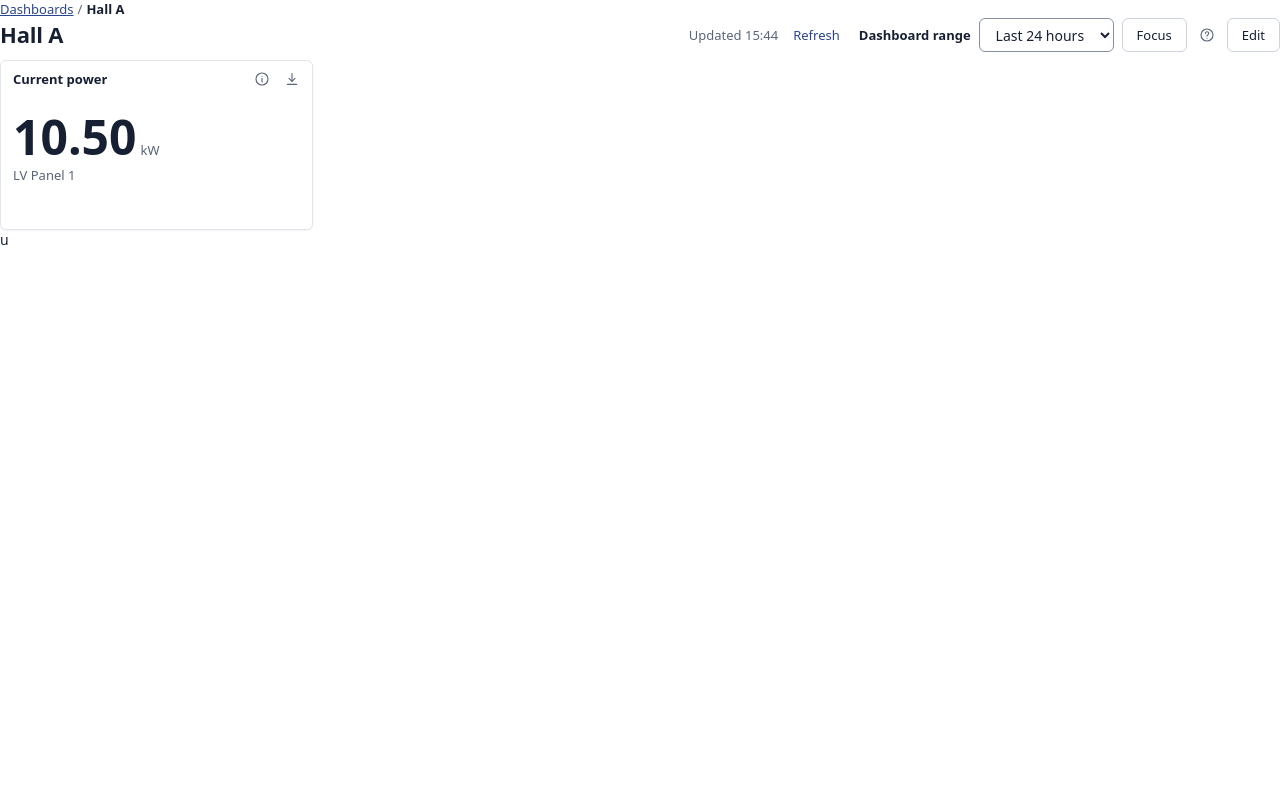
Scenario: editing › adds a widget, saves the exact body, and returns to the view with the server's dashboard
Click the button "Edit": point(1253, 35) [1227, 18, 1279, 52]
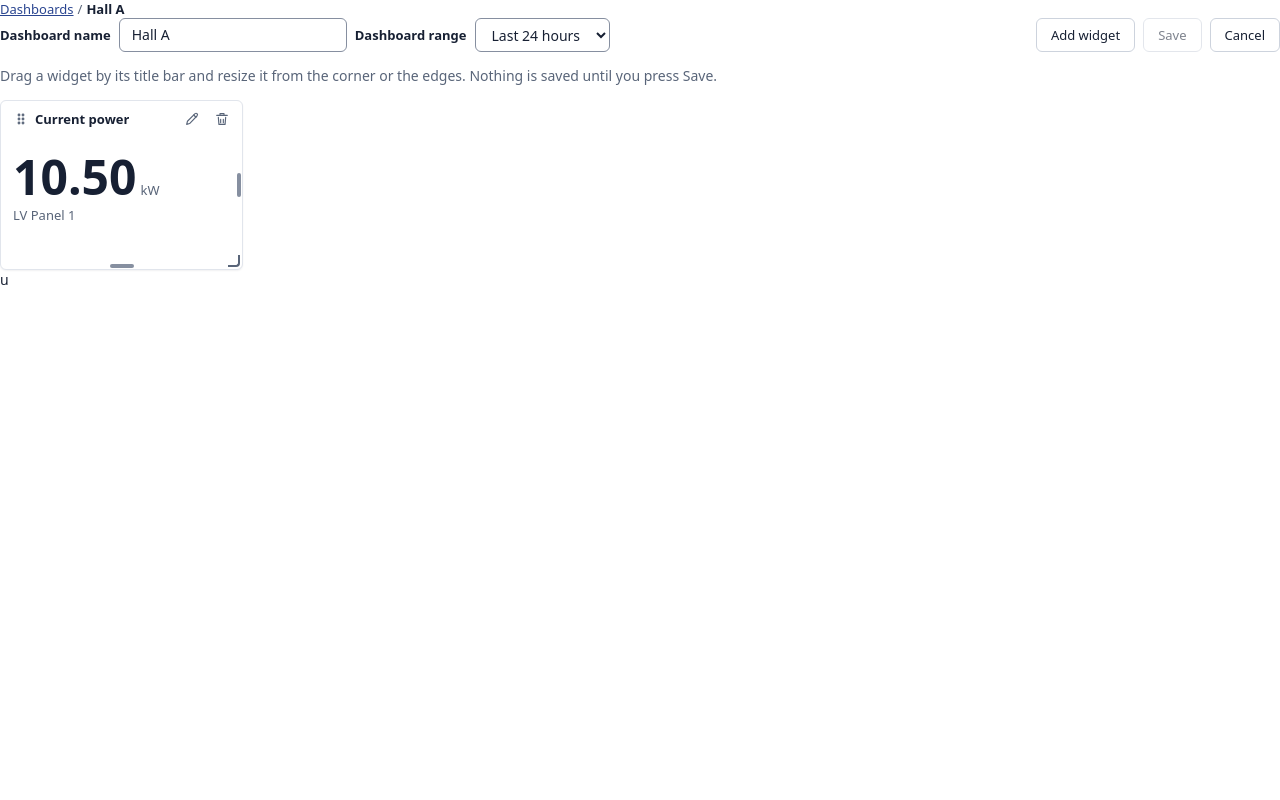
expect the field labelled "Dashboard name" is shown: met, box [119, 18, 347, 52]
expect the button "Add widget" is enabled: met
Click the button "Add widget": point(1086, 35) [1036, 18, 1135, 52]
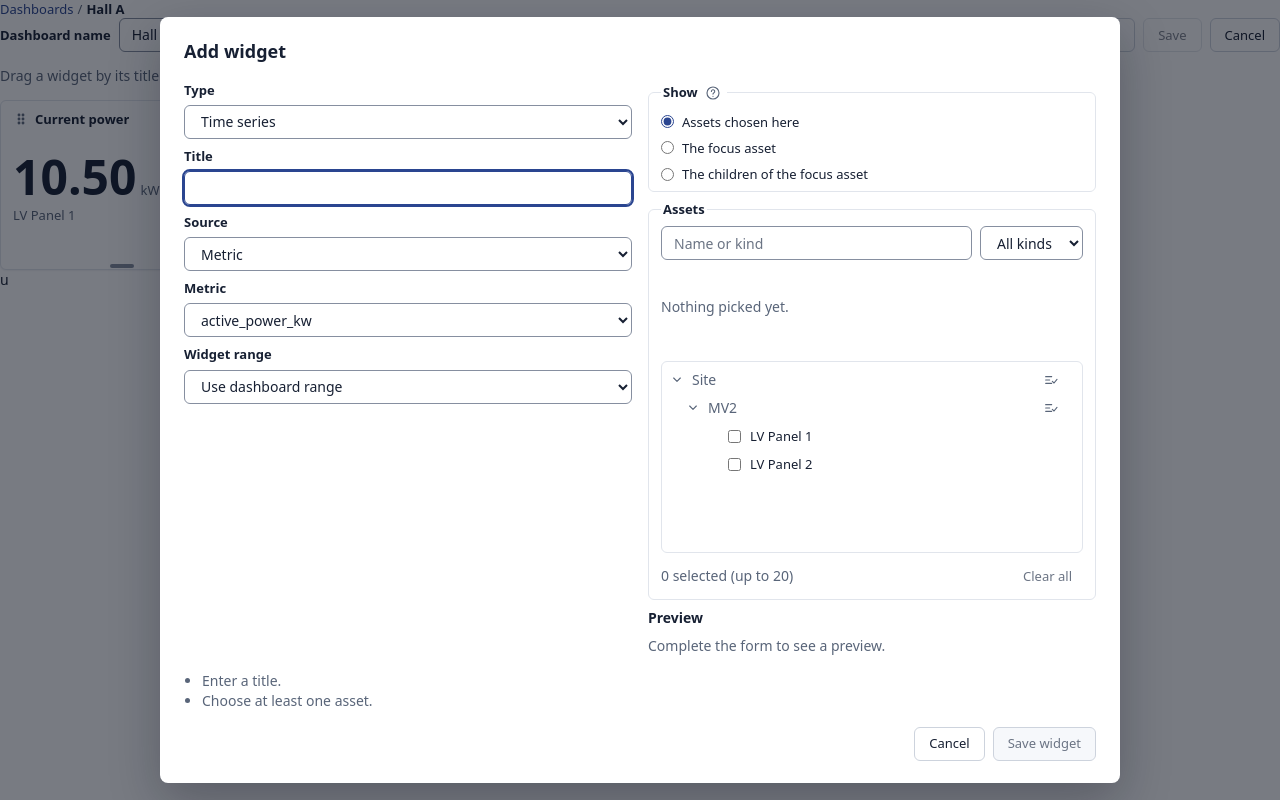
In the field labelled "Title": point(408, 188) [184, 171, 632, 205], type "Hall power"
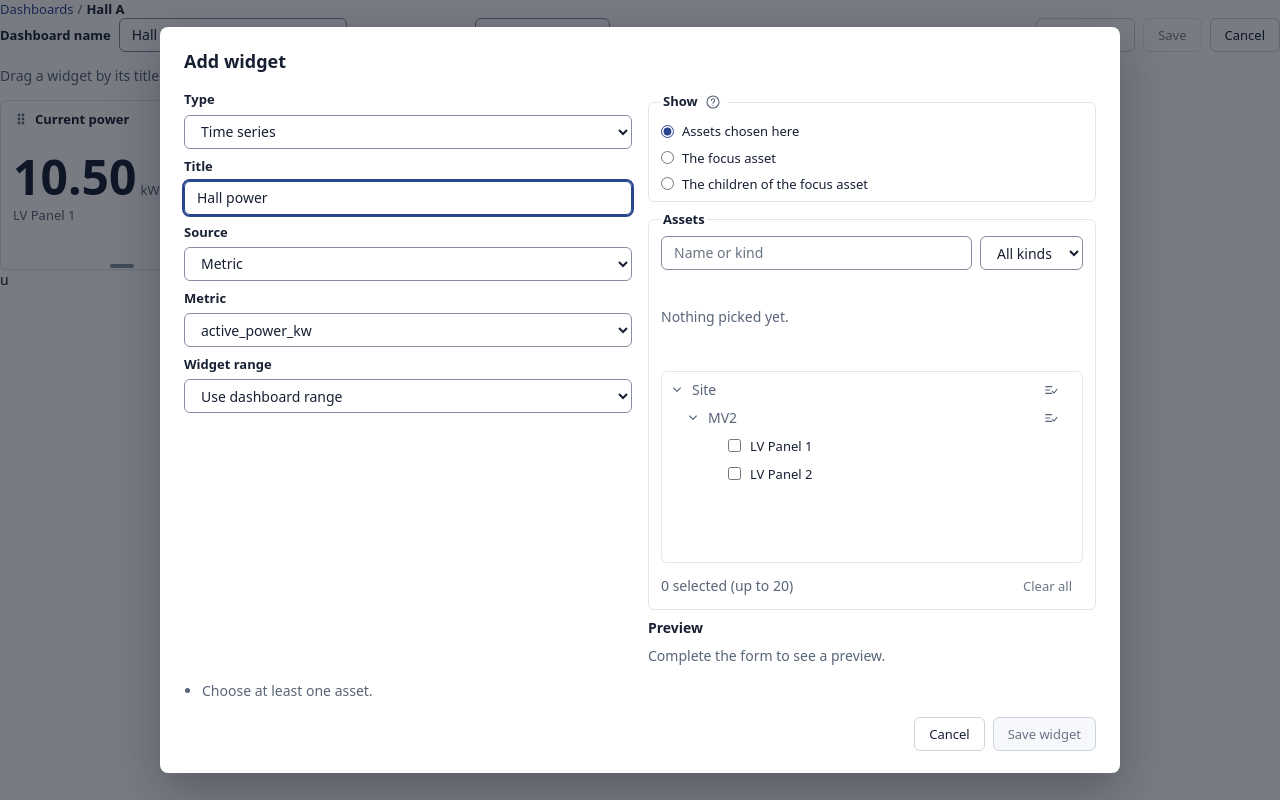
Click the checkbox labelled "LV Panel 1": point(734, 446) [728, 440, 741, 452]
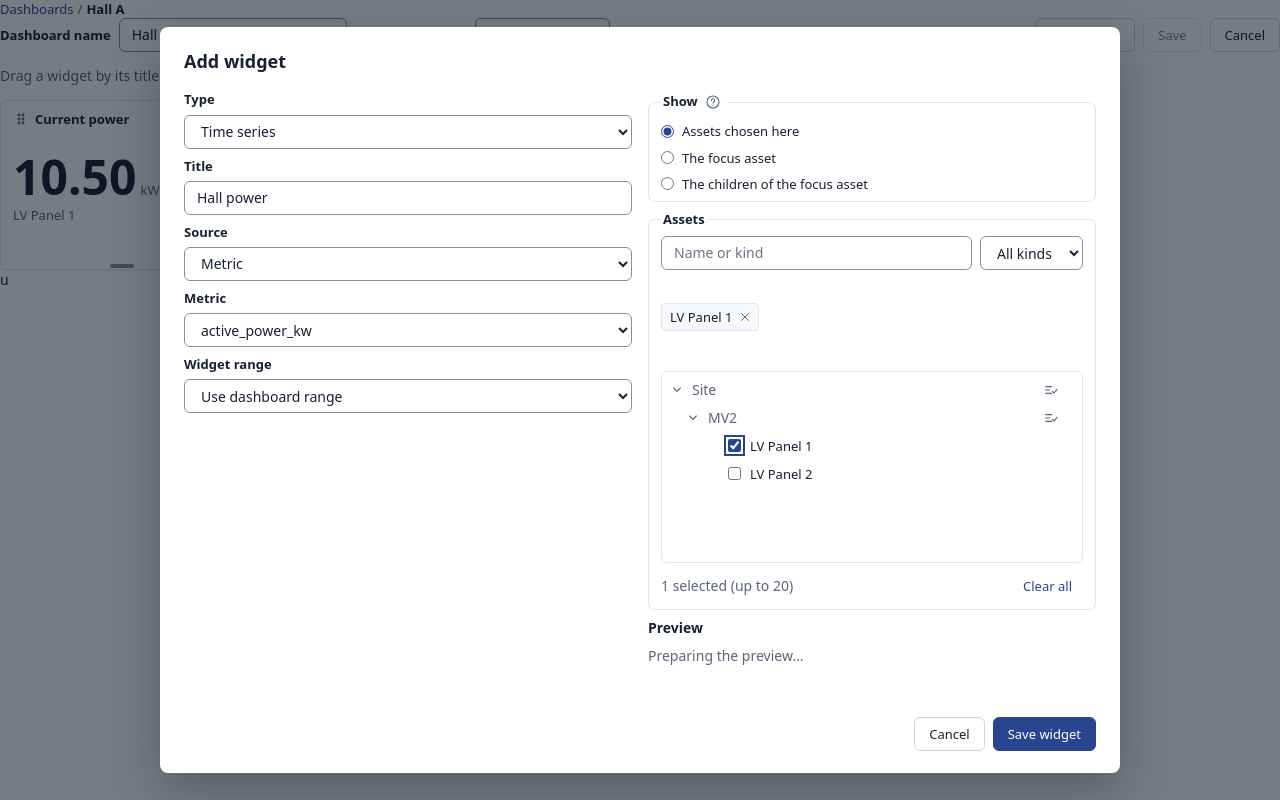
Click the button "Save widget": point(1044, 734) [993, 717, 1096, 751]
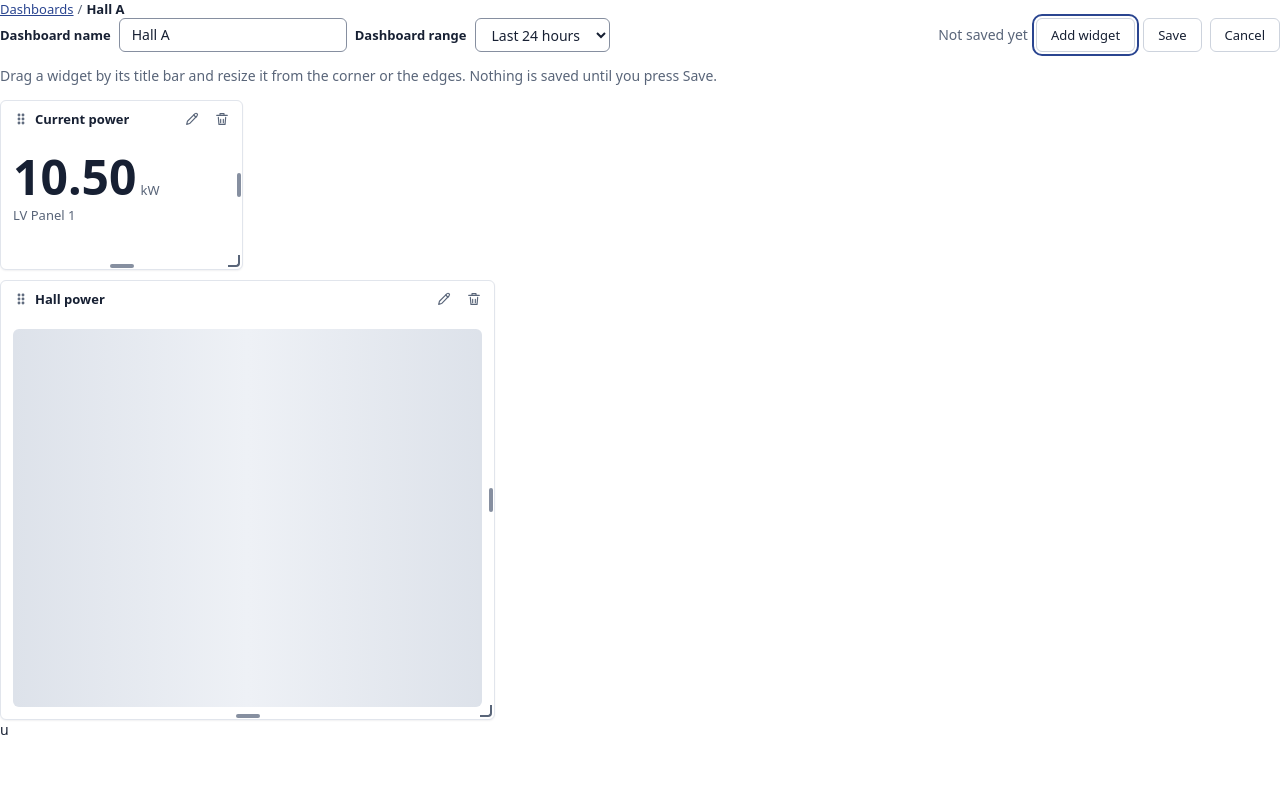
expect the dialog is gone: met
expect the element "Hall power" is shown: met, box [0, 280, 495, 720]
Click the button "Save": point(1172, 35) [1143, 18, 1202, 52]
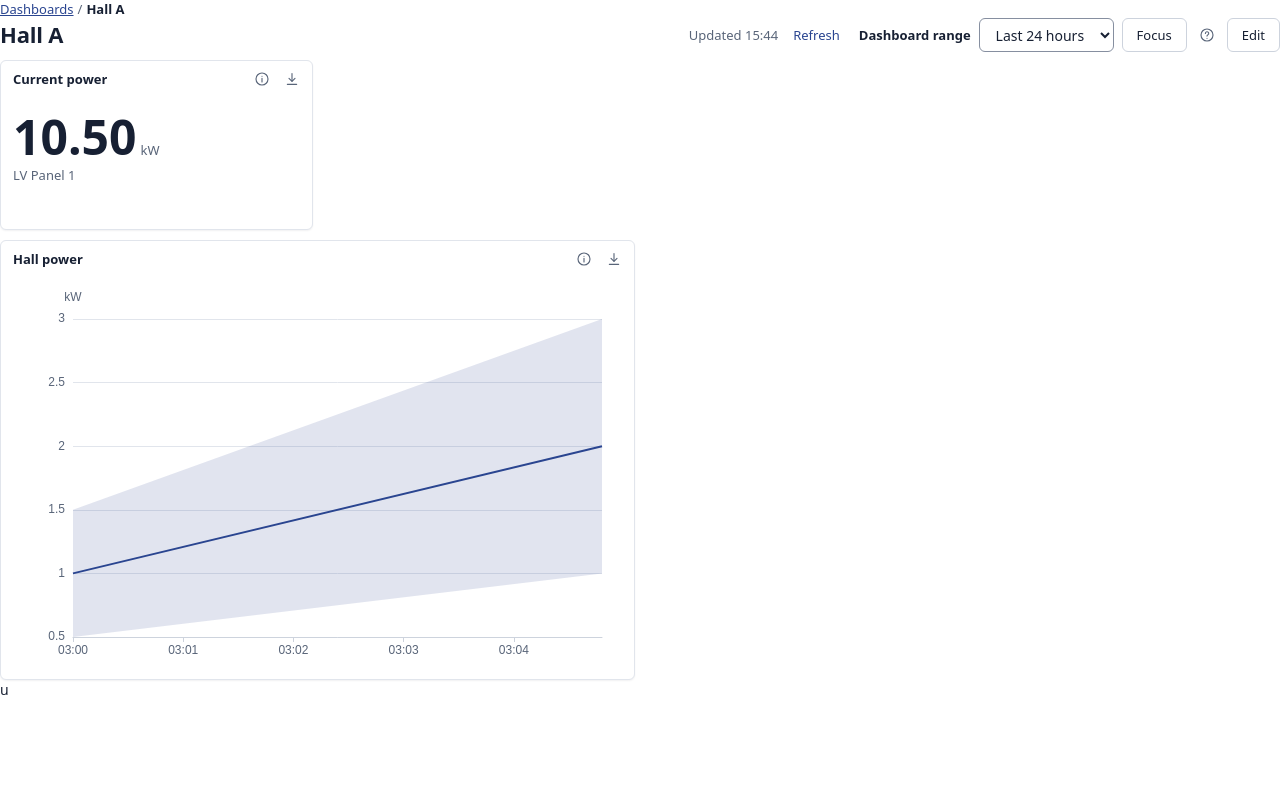
expect the element "Hall power" is shown: met, box [0, 240, 635, 680]
expect the button "Edit" is shown: met, box [1227, 18, 1279, 52]
